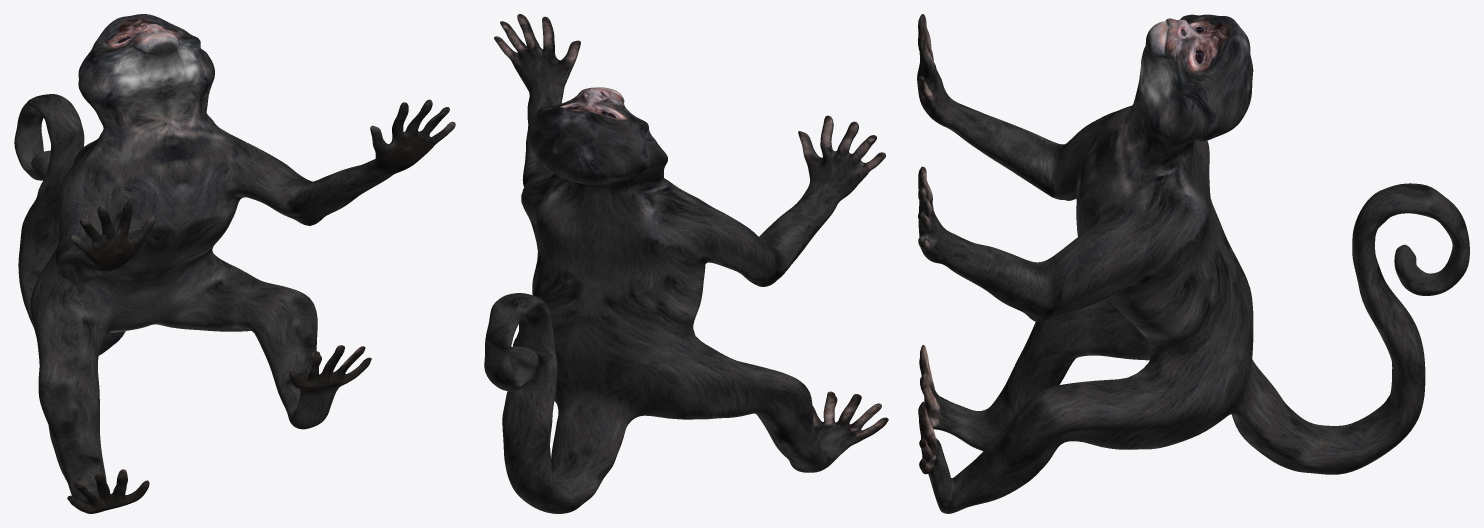
Rendered from monkey.glb.
3 views of the same model, side by side, from view 1: azimuth 30°, elevation 25°; view 2: azimuth 150°, elevation 25°; view 3: azimuth 270°, elevation 25° (orthographic). The views are drawn at different scales.
Parts seen in each view (by area): view 1: 12958_Spider_Monkey_v1_l2; view 2: 12958_Spider_Monkey_v1_l2; view 3: 12958_Spider_Monkey_v1_l2.
Part boxes in pixels (x1,y1,x2,y2): 12958_Spider_Monkey_v1_l2: (14,14,455,513); 12958_Spider_Monkey_v1_l2: (484,14,888,513); 12958_Spider_Monkey_v1_l2: (917,14,1469,513).
Bounding box in the file's own units: 52.96 × 51.93 × 51.33.
1 material, 1 textured.
